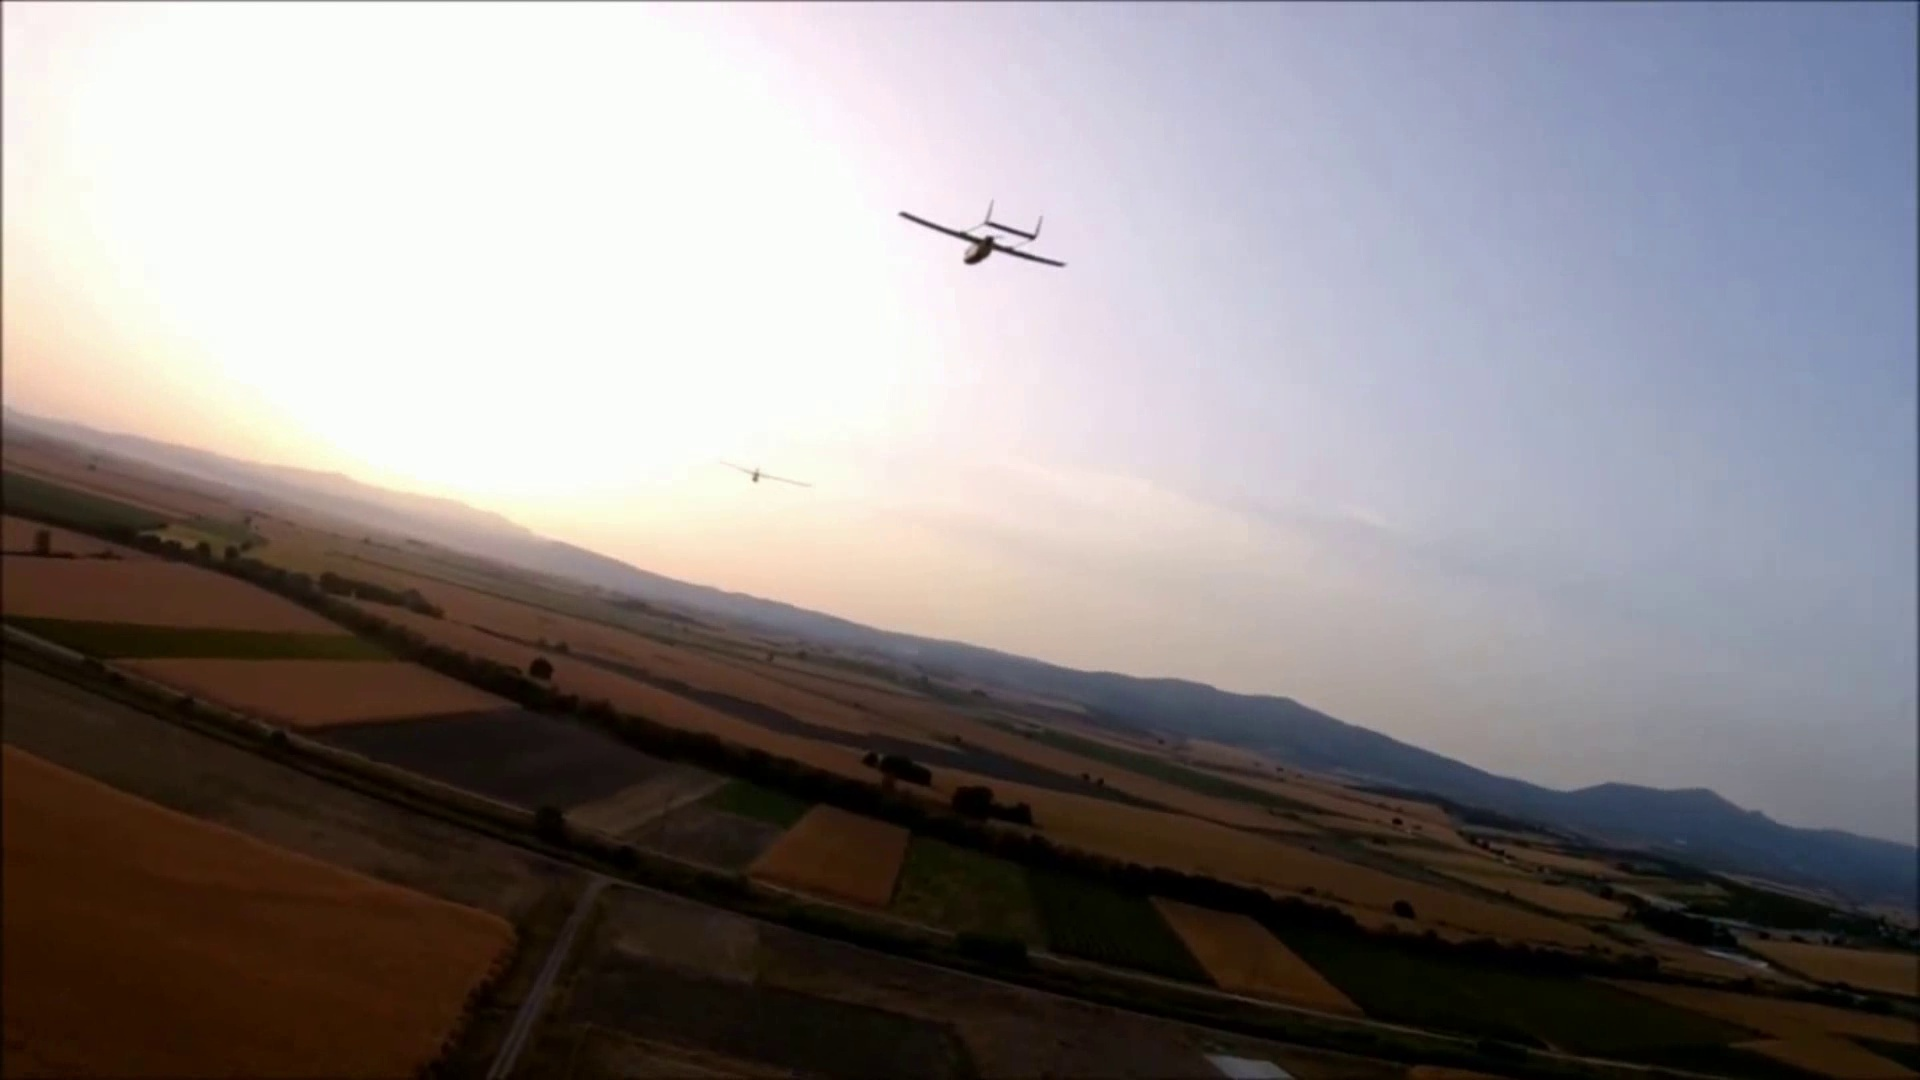airplane: (894, 206, 1067, 270)
